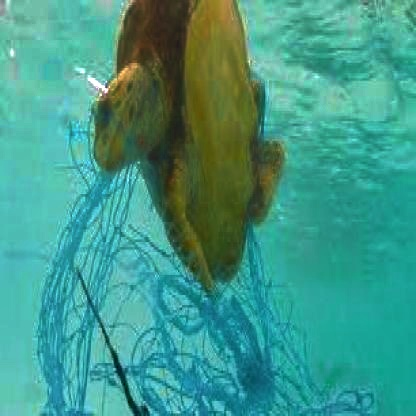net: (34, 164, 324, 416)
